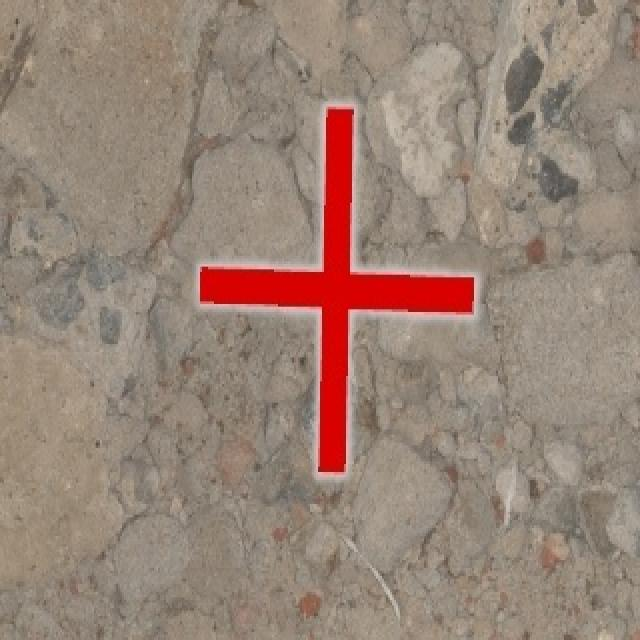x_marker: (199, 106, 475, 473)
